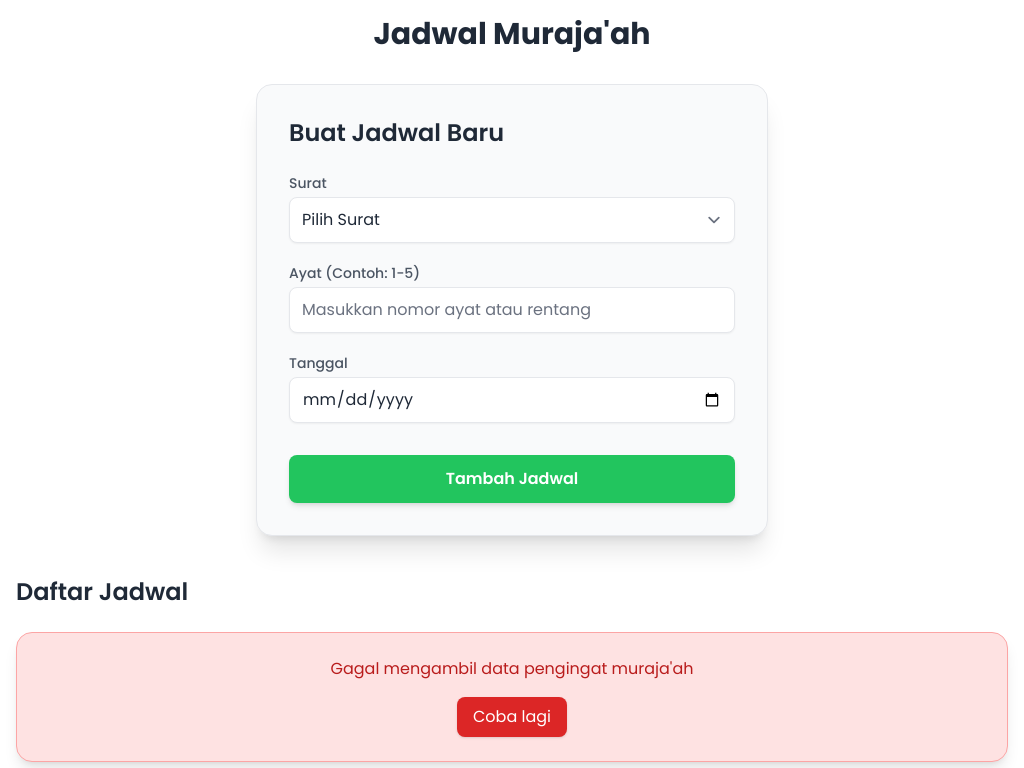
Test: Reminder Page › Authenticated User › displays error message if fetching reminders fails and "Coba lagi" button works
This screenshot has width=1024, height=768.
Expected: the text "Gagal mengambil data pengingat muraja'ah" is shown, [330, 657, 694, 680]
Click the button "Coba lagi": x=512, y=717 [457, 697, 567, 737]
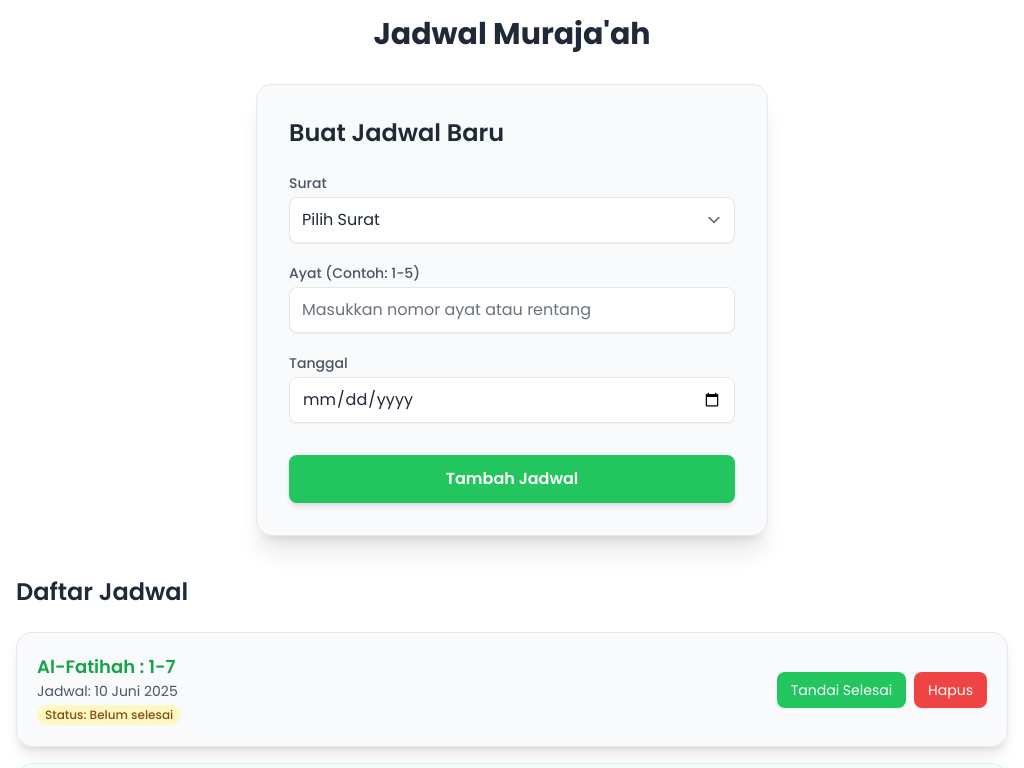
Expected: the text "Al-Fatihah : 1-7" is shown, [37, 653, 181, 681]
